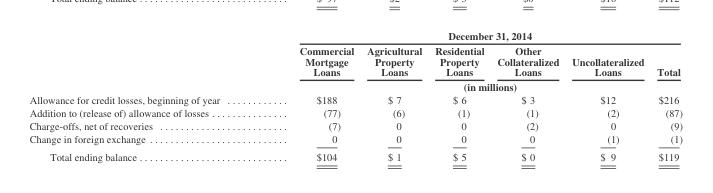table: (28, 29, 681, 162)
table column: (28, 29, 259, 162), (259, 29, 359, 162), (564, 29, 649, 162), (489, 29, 564, 162), (359, 29, 427, 162), (427, 29, 489, 162), (649, 29, 681, 162)
table column header: (28, 29, 681, 93)
table row: (28, 42, 681, 78), (28, 78, 681, 93), (28, 132, 681, 147), (28, 147, 681, 162), (28, 29, 681, 42), (28, 93, 681, 106), (28, 106, 681, 119), (28, 119, 681, 132)
table spanning cell: (259, 78, 681, 93), (259, 29, 681, 42)
